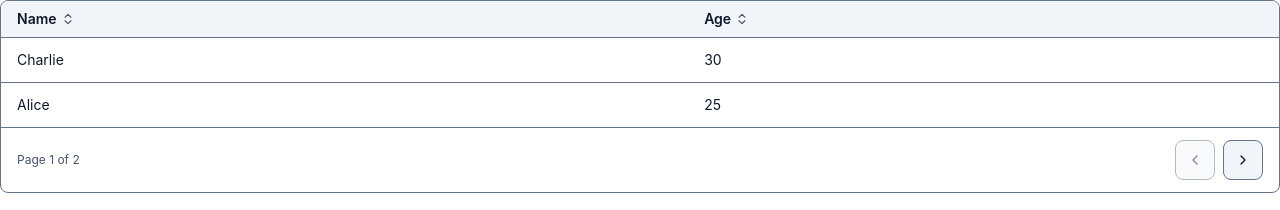
Test: AdminDataTable › paginates: shows pageSize rows per page and navigates with Next/Previous
Check: the text "Page 1 of 2" is shown, box 17,152 -> 80,168
Check: the button named "Previous page" is disabled, box 1175,140 -> 1215,180
Click the button named "Next page" at (1243, 160), box 1223,140 -> 1263,180
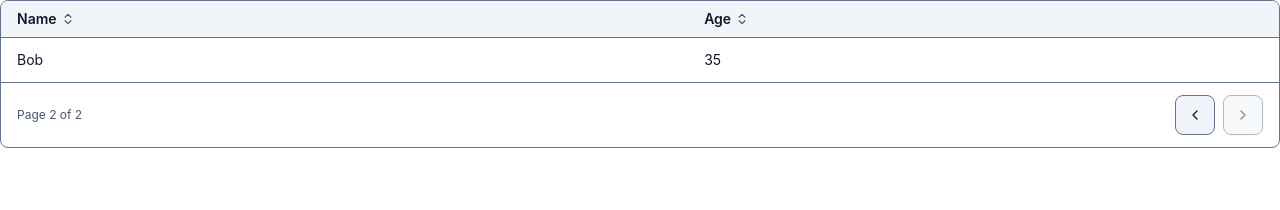
Check: the text "Page 2 of 2" is shown, box 17,107 -> 82,123
Check: the button named "Next page" is disabled, box 1223,95 -> 1263,135
Click the button named "Previous page" at (1195, 115), box 1175,95 -> 1215,135
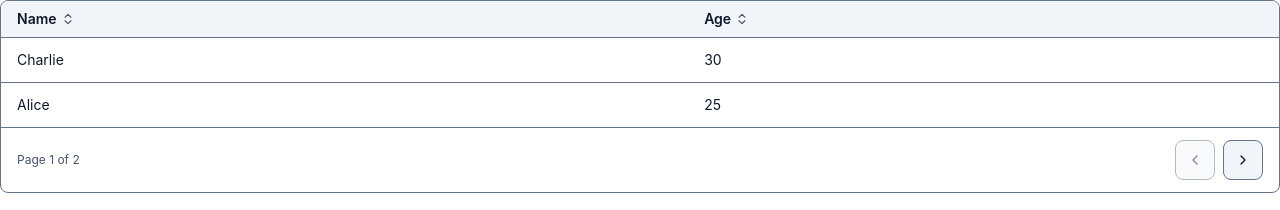
Check: the text "Page 1 of 2" is shown, box 17,152 -> 80,168
